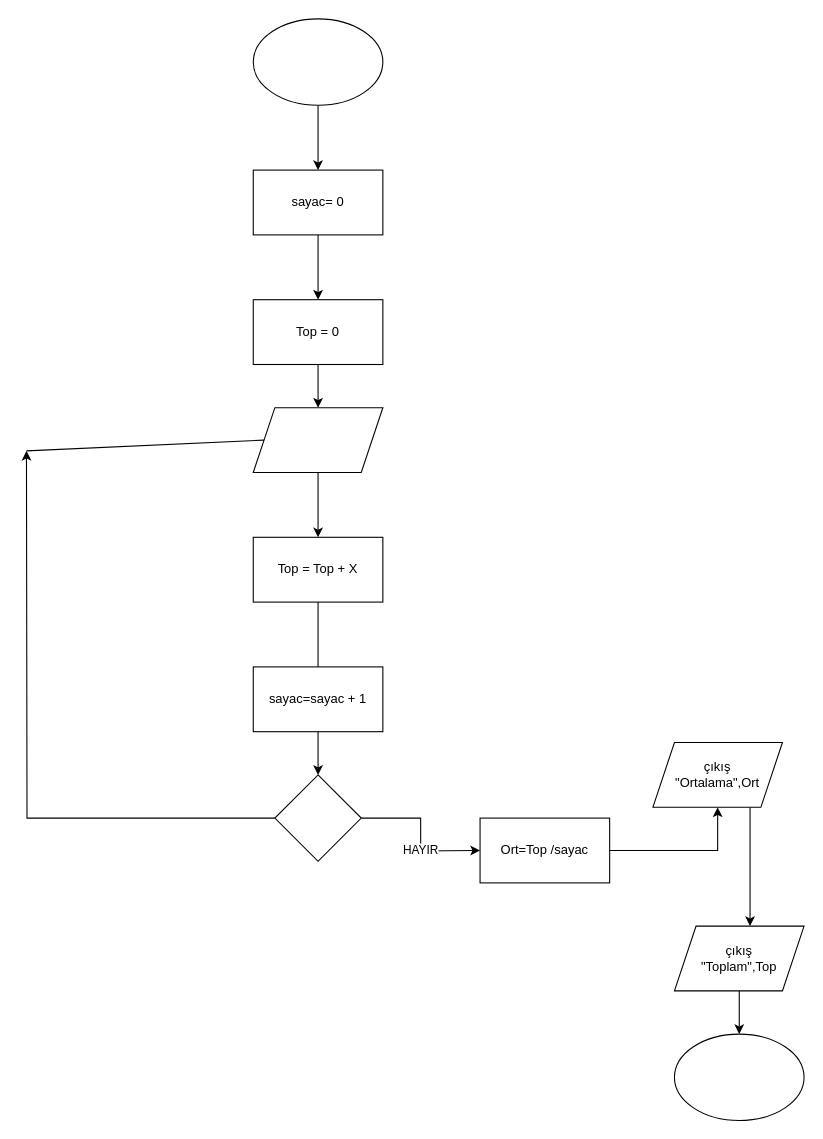
Some shapes in this 823 by 1139 pixel diagram are drawn without their labels. Here are the shapes that lost their labels. From the top down, the centre of each, then its label:
(x=317, y=61): başla
(x=317, y=440): giriş "Sayı Giriniz",X
(x=317, y=817): Sayac<5
(x=738, y=1076): dur
